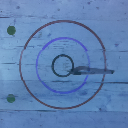Axe Tip: (67, 69, 80, 72)
